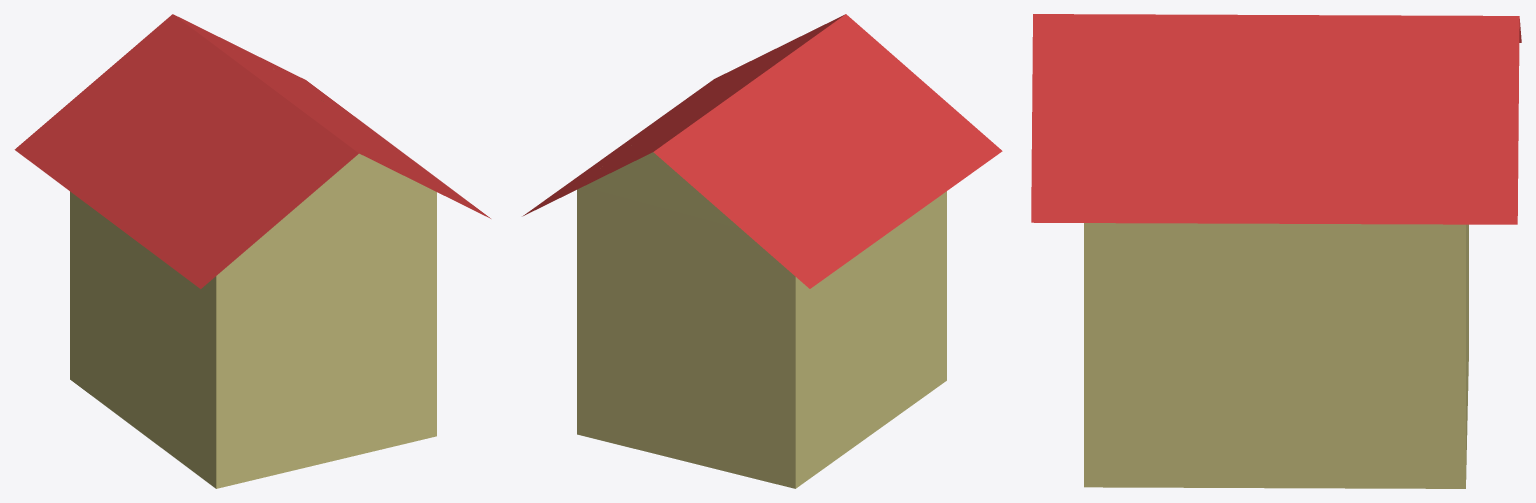
3 views of the same model, side by side, from view 1: azimuth 30°, elevation 25°; view 2: azimuth 150°, elevation 25°; view 3: azimuth 270°, elevation 25° (orthographic). The views are drawn at different scales.
Size of the model in its own units: 8.32 by 9.39 by 8.7.
